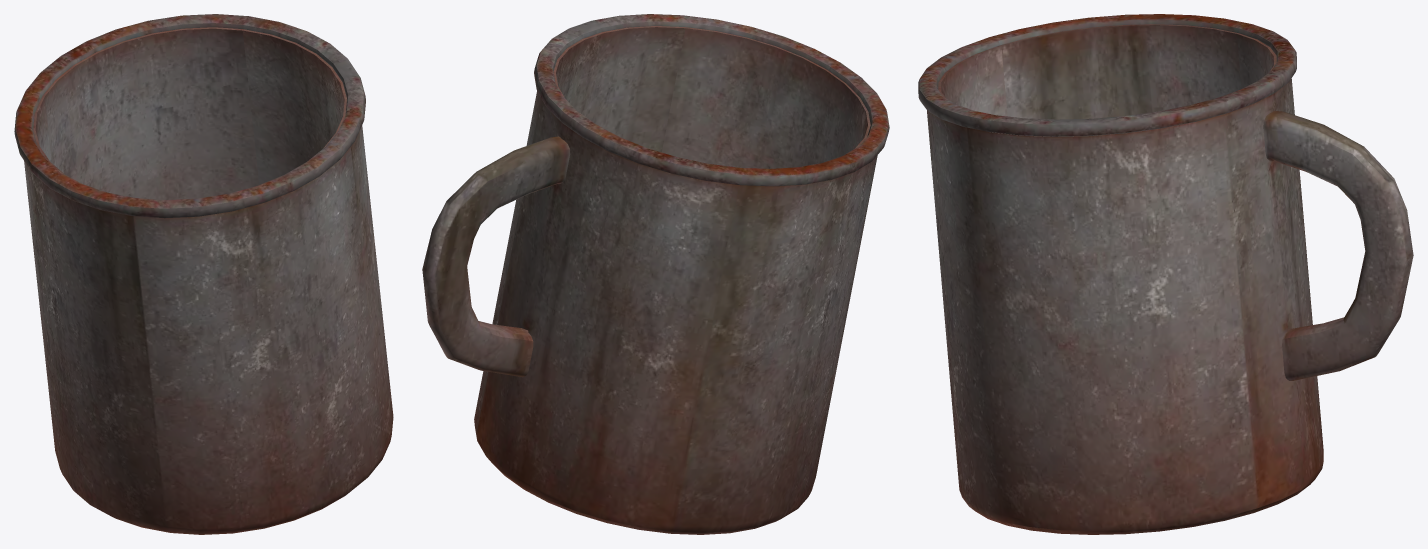
Rendered from old_ceramic_mug.glb.
3 views of the same model, side by side, from view 1: azimuth 30°, elevation 25°; view 2: azimuth 150°, elevation 25°; view 3: azimuth 270°, elevation 25° (orthographic). The views are drawn at different scales.
Visible parts, largest first — view 1: Mug_low; view 2: Mug_low; view 3: Mug_low.
Part boxes in pixels (x1,y1,x2,y2): Mug_low: [14, 14, 393, 534]; Mug_low: [422, 14, 889, 534]; Mug_low: [918, 14, 1413, 534].
Size of the model in its own units: 283 by 322 by 325.
2 materials, 2 textured.
